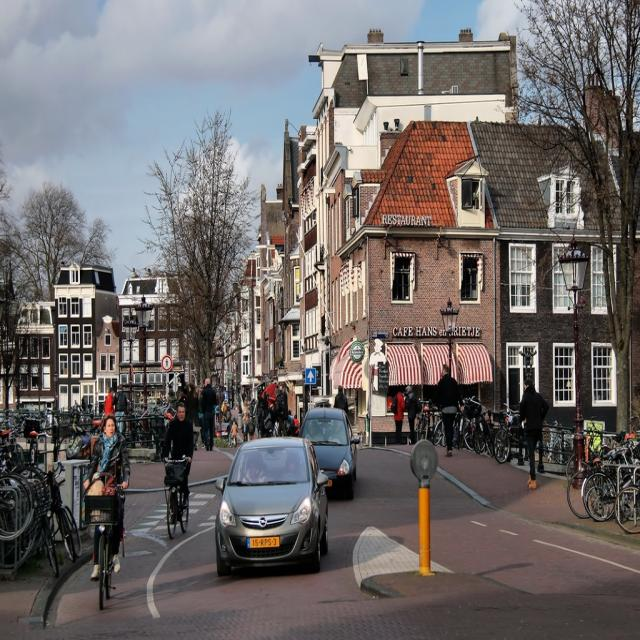car: (213, 437, 330, 574)
